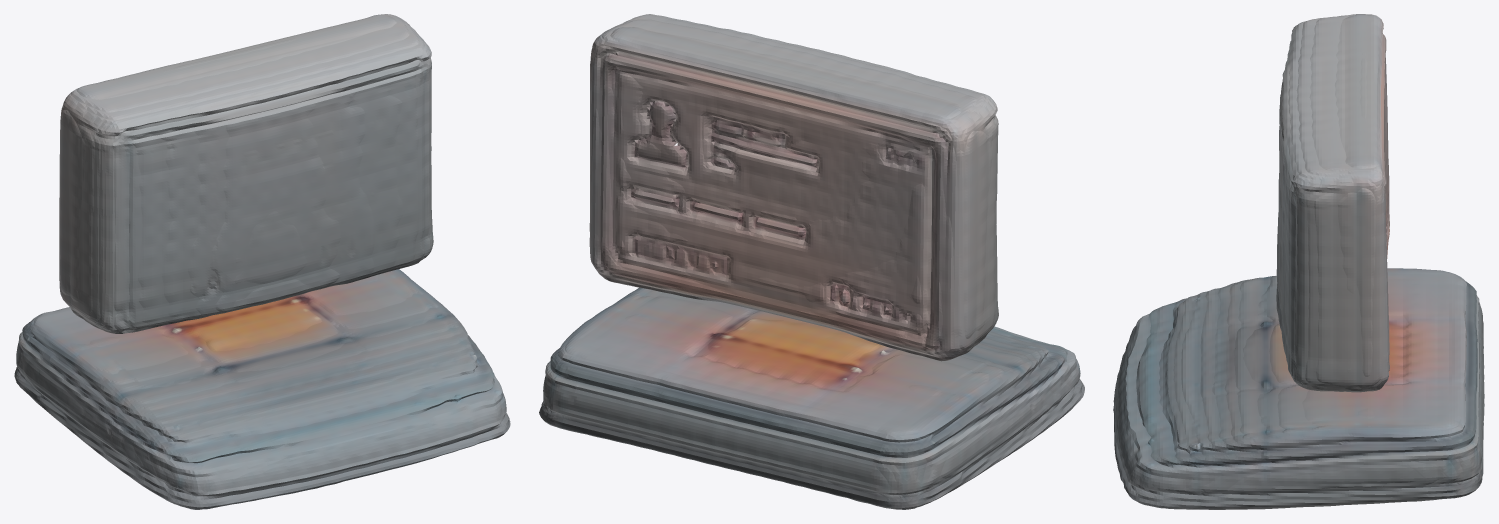
Rendered from room-02-credential-stack.glb.
3 views of the same model, side by side, from view 1: azimuth 30°, elevation 25°; view 2: azimuth 150°, elevation 25°; view 3: azimuth 270°, elevation 25° (orthographic). The views are drawn at different scales.
Visible parts, largest first — view 1: world; view 2: world; view 3: world.
Boxes of the visible parts, box(x1,y1,x2,y2) form: world: box(14, 14, 510, 509); world: box(539, 14, 1084, 509); world: box(1113, 14, 1484, 509).
Bounding box in the file's own units: 0.9912 × 0.8863 × 0.8762.
